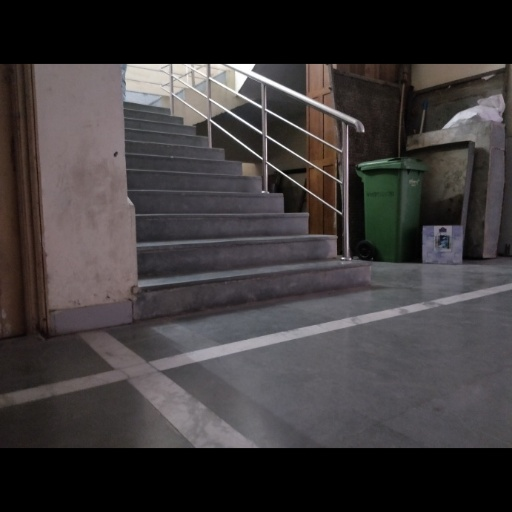Stairs: (125, 104, 370, 319)
